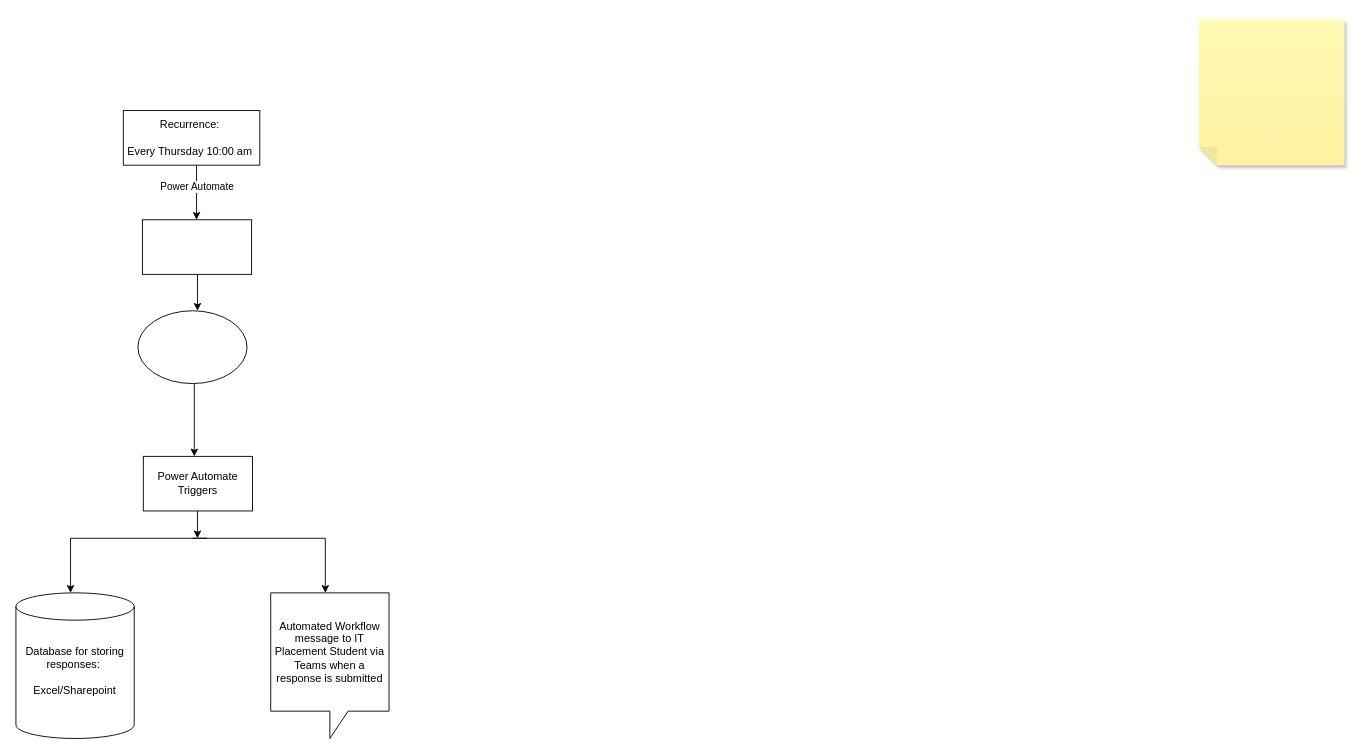
Some shapes in this 1366 by 754 pixel diagram are drawn without their labels. The shapes that lost their labels are listed below. From the top down, each one's centre as x and y in pixels, then its label:
the point at 197,246: Individual Message to Users on Teams
the point at 192,347: PM submits availability via Microsoft Forms
